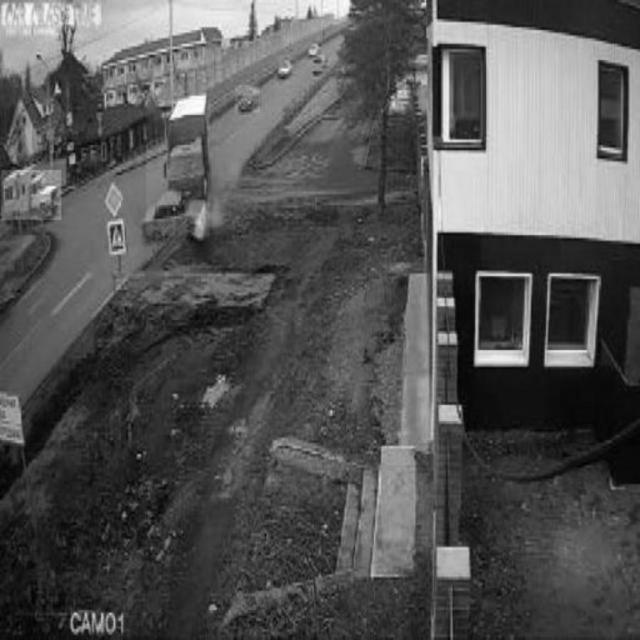accident: (146, 100, 210, 236)
vehicle: (2, 170, 62, 220), (235, 86, 260, 113), (279, 55, 294, 77)
